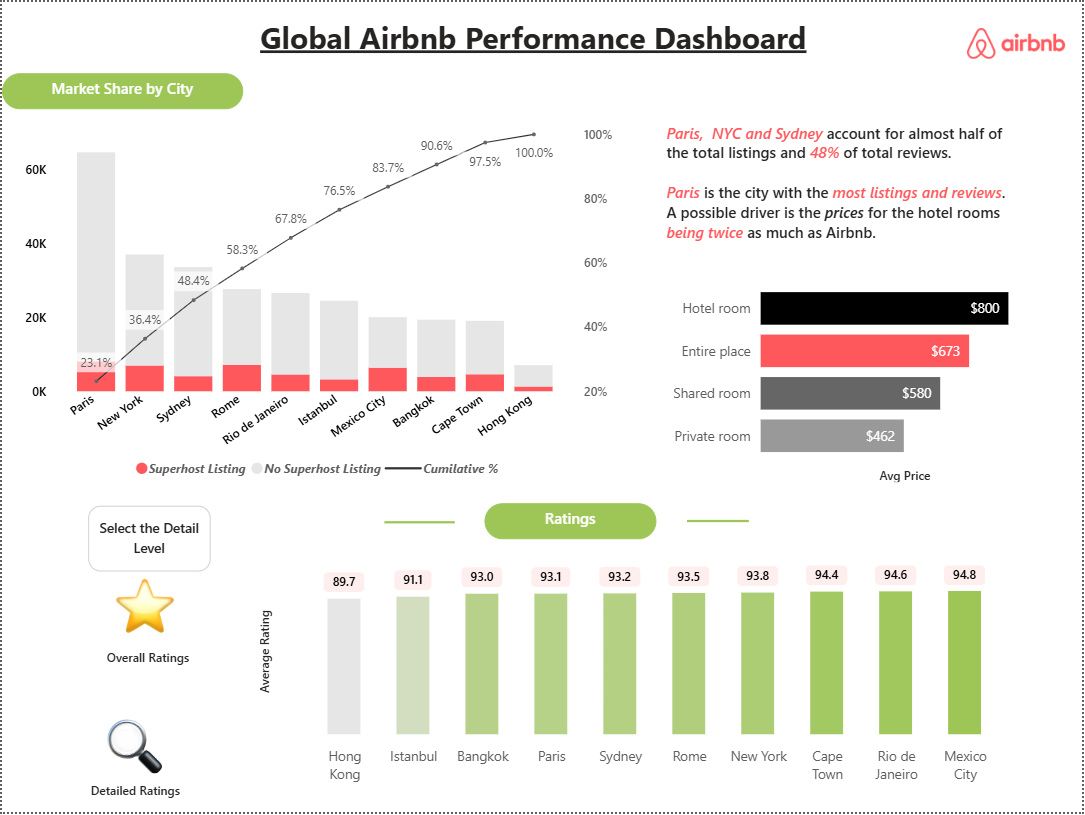

Layout of this report page (visuals, bound fields, positions):
{"tool":"powerbi","page":{"name":"Ratings","canvas":[960,720],"ordinal":1},"visuals":[{"type":"image","box":[857.6,19.6,87,33.7],"z":0},{"type":"image","box":[29.7,476.9,194.5,120.9],"z":0,"group":"g1"},{"type":"image","box":[29.7,604.4,175.8,115.4],"z":0,"group":"g2"},{"type":"textbox","box":[224.6,7.6,510.9,56.5],"z":1000},{"type":"textbox","box":[76.7,568.2,106.2,31],"z":1000,"group":"g1"},{"type":"textbox","box":[67.9,685.8,101.5,33.6],"z":1000,"group":"g2"},{"type":"textbox","box":[0,63.7,214.3,31.9],"z":2000},{"type":"lineStackedColumnComboChart","fields":{"Y":["Listings.Superhost Listing","Listings.No Superhost Listing"],"Category":["Listings.city"],"Y2":["Listings.Cumilative %"]},"box":[15.4,102.2,533,329.7],"z":3000},{"type":"barChart","fields":{"Y":["Listings.Avg Price"],"Category":["Listings.room_type"]},"box":[585.7,229.7,350.5,202.2],"z":4000},{"type":"textbox","box":[585.7,102.2,315.4,127.5],"z":5000},{"type":"columnChart","fields":{"Y":["Listings.Average Rating"],"Category":["Listings.city"]},"box":[224.2,490.1,676.9,212.1],"z":6000},{"type":"textbox","box":[429.1,445.1,152.7,31.9],"z":8000},{"type":"shape","box":[339.6,433,62.6,58.2],"z":9000},{"type":"shape","box":[608.8,431.9,54.9,58.2],"z":10000},{"type":"group","id":"g1","title":"Group 1","box":[29.7,476.9,194.5,122],"z":11000},{"type":"group","id":"g2","title":"Group 2","box":[29.7,604.4,175.8,115.4],"z":12000},{"type":"textbox","box":[76.9,447.3,108.8,58.2],"z":13000}]}

Visuals, with their boxes in screenshot pixels (x1, y1, x2, y2), scaled from the page's 960x720 canvas onto the 1085x815 screenshot:
image: <box>969,22,1068,60</box>
image: <box>34,540,253,677</box>
image: <box>34,684,232,814</box>
textbox: <box>254,9,831,73</box>
textbox: <box>87,643,207,678</box>
textbox: <box>77,776,191,814</box>
textbox: <box>0,72,242,108</box>
lineStackedColumnComboChart - Listings.Superhost Listing x Listings.No Superhost Listing: <box>17,116,620,489</box>
barChart - Listings.Avg Price x Listings.room_type: <box>662,260,1058,489</box>
textbox: <box>662,116,1018,260</box>
columnChart - Listings.Average Rating x Listings.city: <box>253,555,1018,795</box>
textbox: <box>485,504,658,540</box>
shape: <box>384,490,455,556</box>
shape: <box>688,489,750,555</box>
"Group 1" group: <box>34,540,253,678</box>
"Group 2" group: <box>34,684,232,814</box>
textbox: <box>87,506,210,572</box>
